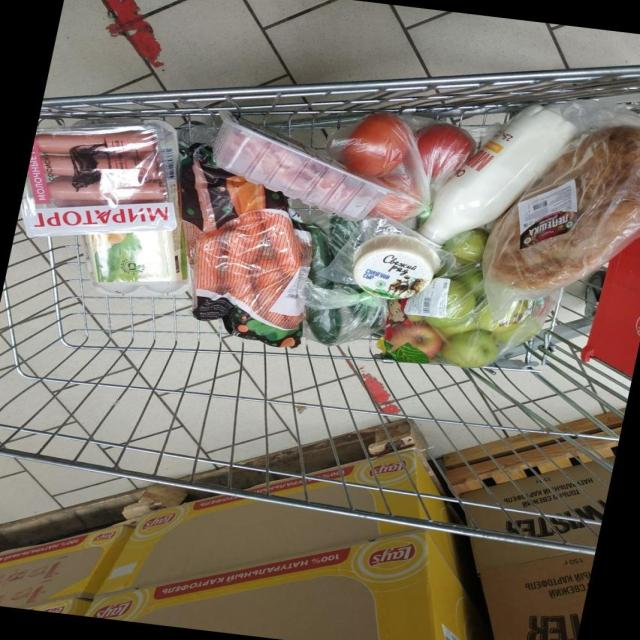apple: (207, 153, 640, 481), (232, 163, 640, 505), (218, 165, 640, 487), (235, 162, 640, 490), (254, 161, 640, 493), (246, 166, 640, 486), (245, 128, 640, 406), (235, 134, 640, 392)
carrot: (140, 152, 426, 429), (108, 144, 358, 452), (129, 104, 395, 341), (114, 107, 362, 346), (115, 115, 331, 345)
cheese: (223, 121, 611, 356)
cucumber: (186, 149, 535, 456), (172, 140, 526, 431), (153, 144, 459, 471), (173, 118, 532, 346), (156, 113, 464, 340)
egg: (95, 163, 280, 406)
milk: (213, 147, 640, 283)
tomato: (218, 107, 629, 299), (233, 63, 640, 186), (195, 53, 556, 173)
